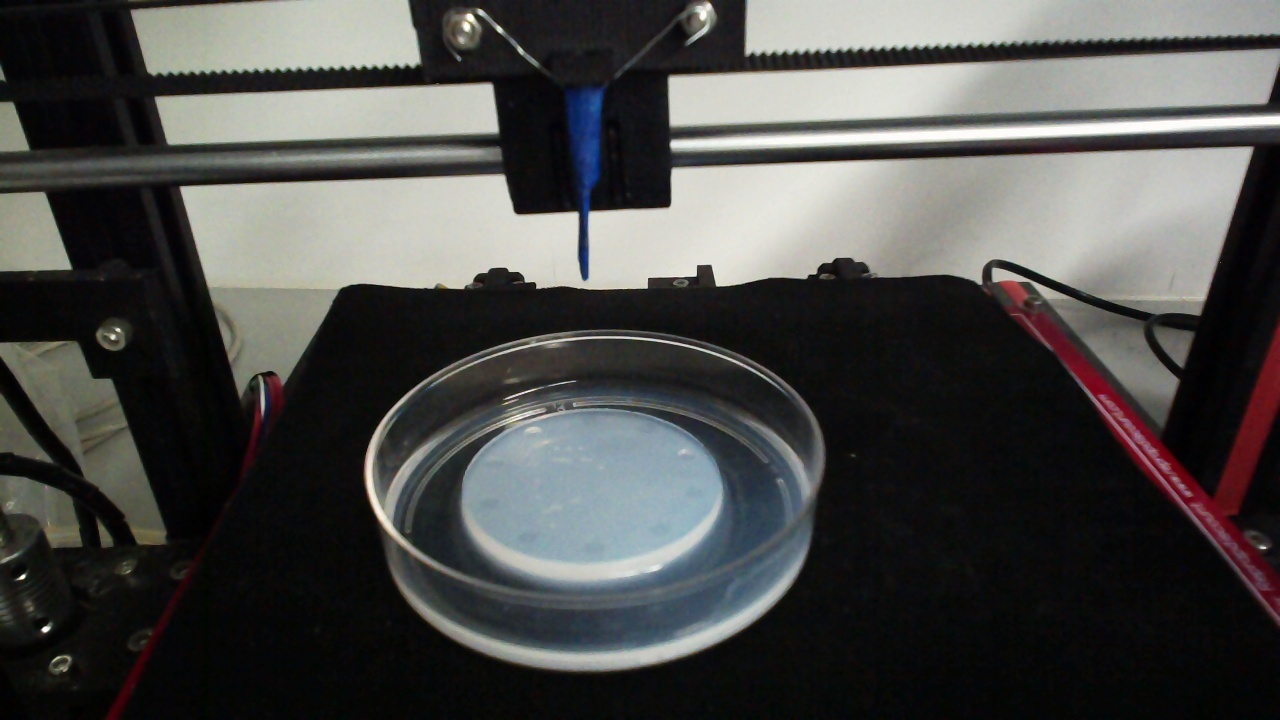groove: (648, 521, 671, 539), (581, 539, 605, 556), (515, 530, 539, 546), (684, 485, 704, 502), (478, 497, 502, 511), (676, 448, 698, 462), (522, 425, 543, 439), (483, 456, 504, 470), (637, 420, 656, 435)
needle: (568, 90, 603, 280)
